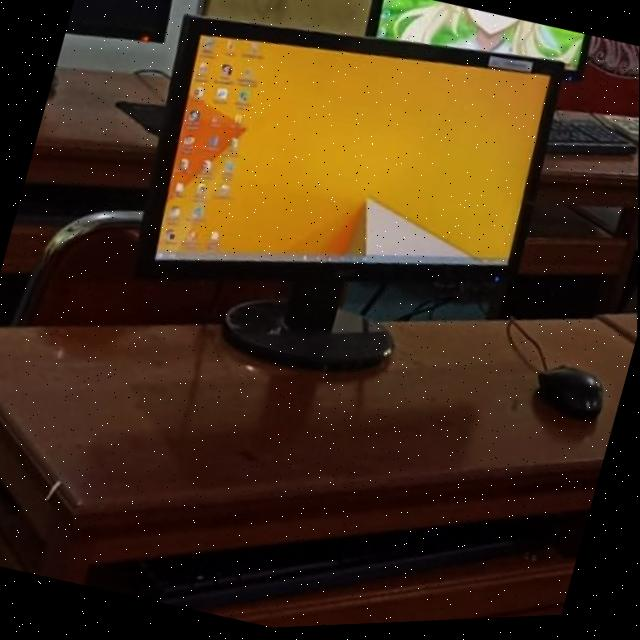offscreen: (65, 0, 171, 43)
onscreen: (137, 21, 562, 321), (366, 0, 588, 77)
